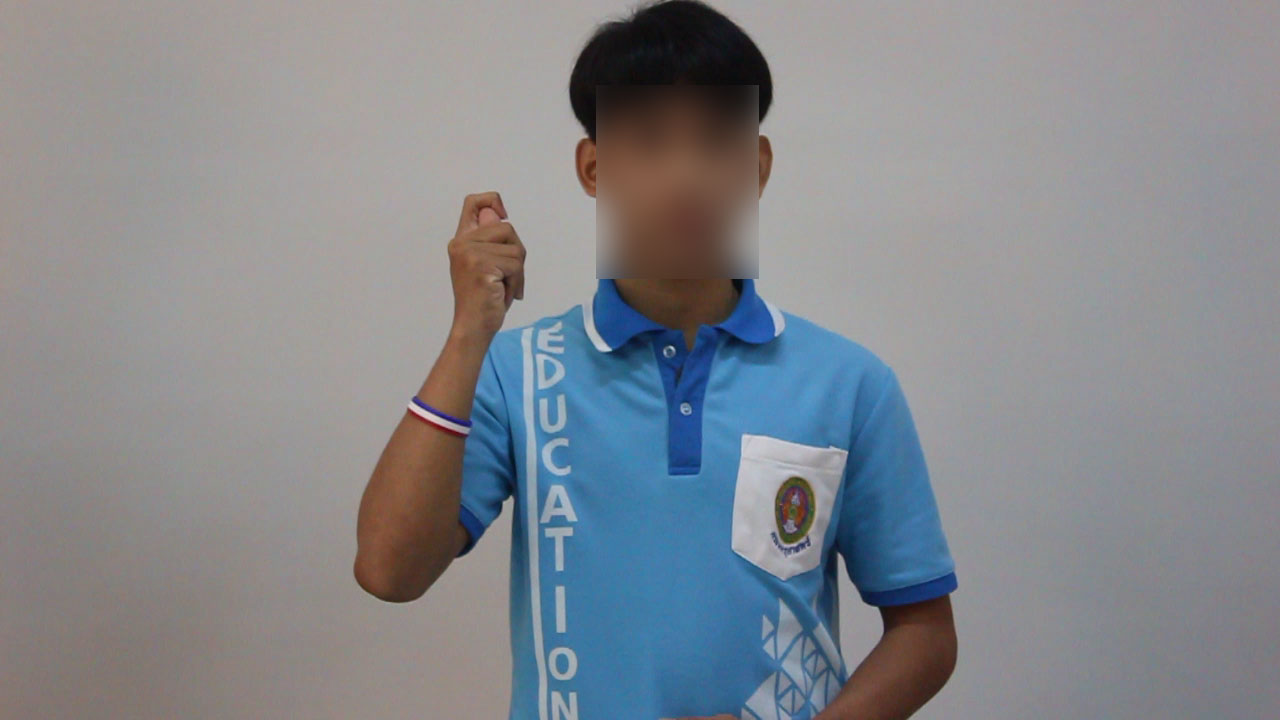or: (443, 184, 535, 349)
